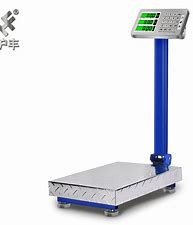Industrial Scale: (46, 7, 189, 217)
